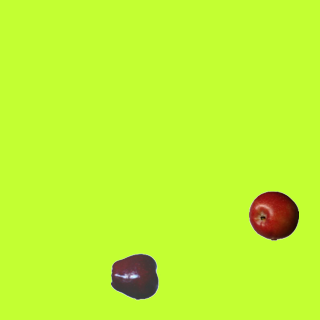Apple Braeburn: (248, 190, 298, 240)
Apple Red Delicious: (110, 251, 160, 301)
